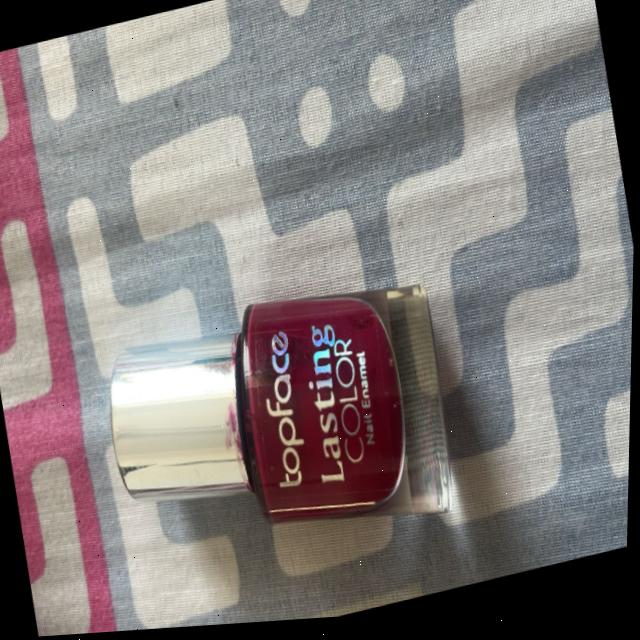nail polish: (45, 194, 497, 637)
